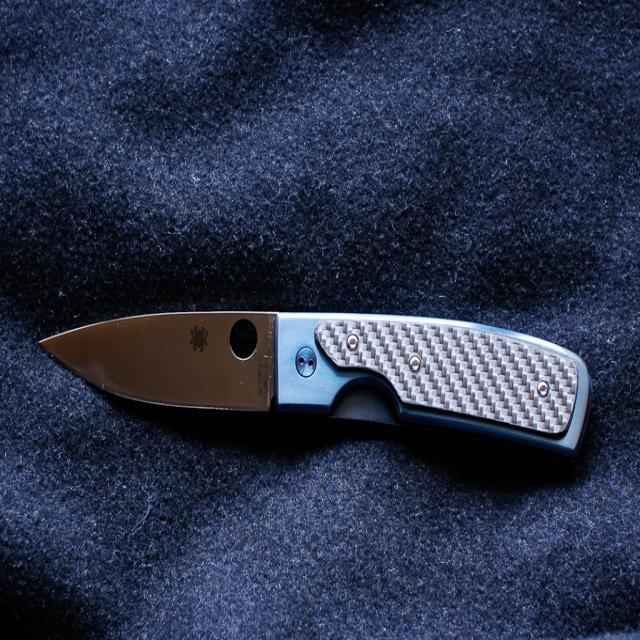Knife: (41, 312, 589, 456)
